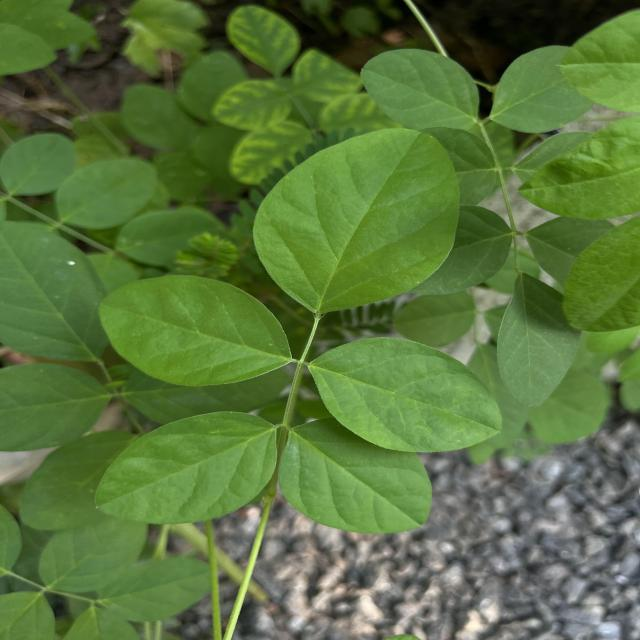Clitoria ternatea: (250, 124, 463, 316), (306, 334, 506, 454), (96, 272, 294, 389), (90, 407, 282, 526), (276, 416, 435, 534)
